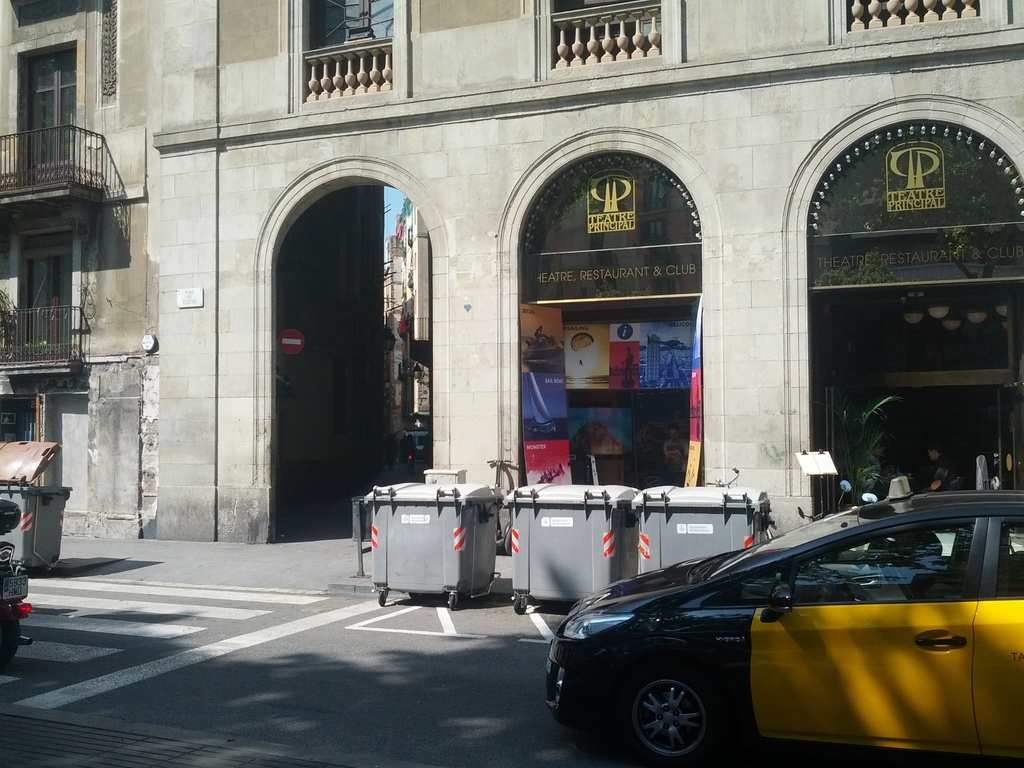cars: (535, 451, 1023, 767)
